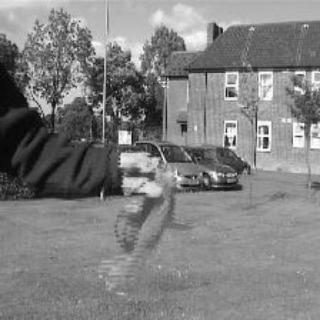other: (103, 167, 173, 291)
